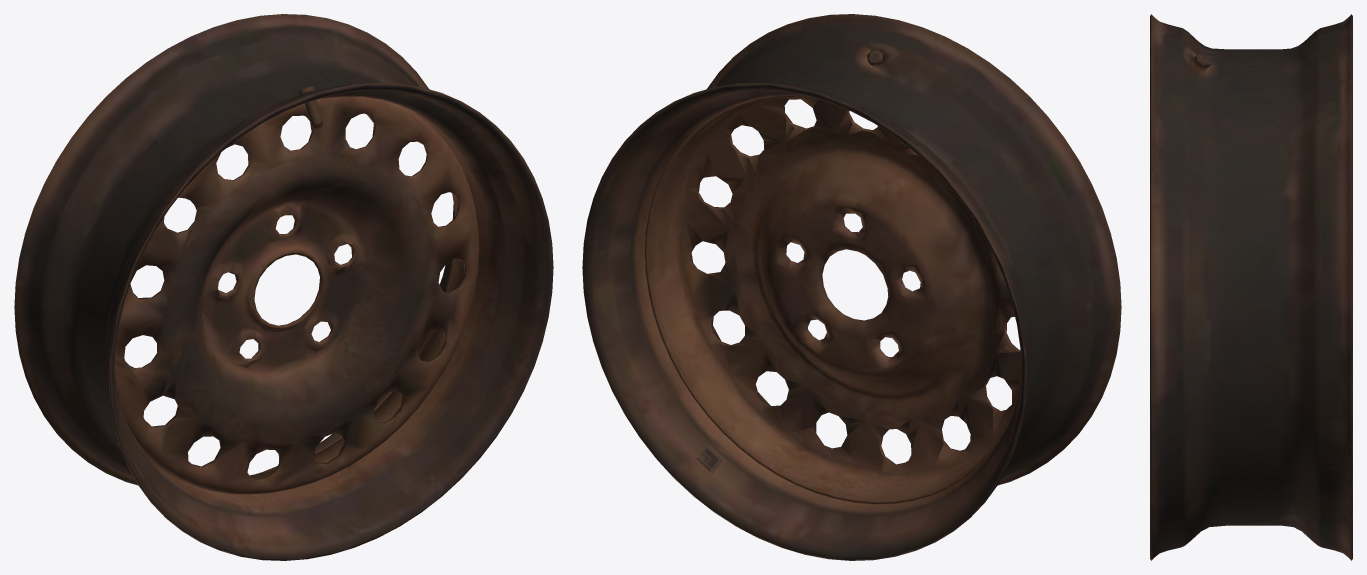
File: rusted-wheel-rim-01.glb
The picture shows the model from 3 angles, left to right: view 1: azimuth 30°, elevation 25°; view 2: azimuth 150°, elevation 25°; view 3: azimuth 270°, elevation 25°; orthographic projection. The views are drawn at different scales.
Parts seen in each view (by area): view 1: rusted_wheel_rim_01; view 2: rusted_wheel_rim_01; view 3: rusted_wheel_rim_01.
Part boxes in pixels (bbox=[...]): rusted_wheel_rim_01: bbox=[14, 14, 553, 560]; rusted_wheel_rim_01: bbox=[582, 14, 1121, 560]; rusted_wheel_rim_01: bbox=[1150, 14, 1352, 560].
Bounding box in the file's own units: 0.4044 × 0.4044 × 0.15.
1 material, 1 textured.
